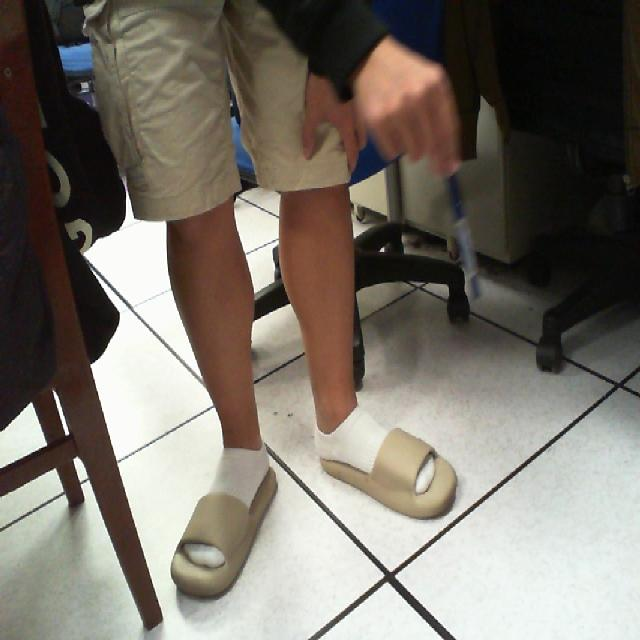Pen: (432, 141, 493, 330)
